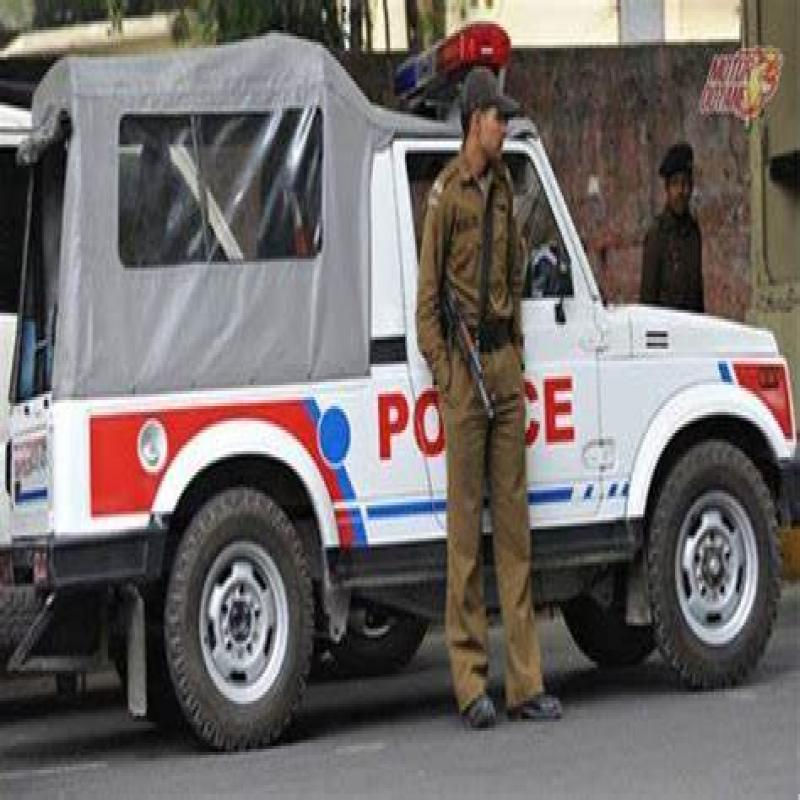AmbulanceSiren: (380, 15, 536, 110)
